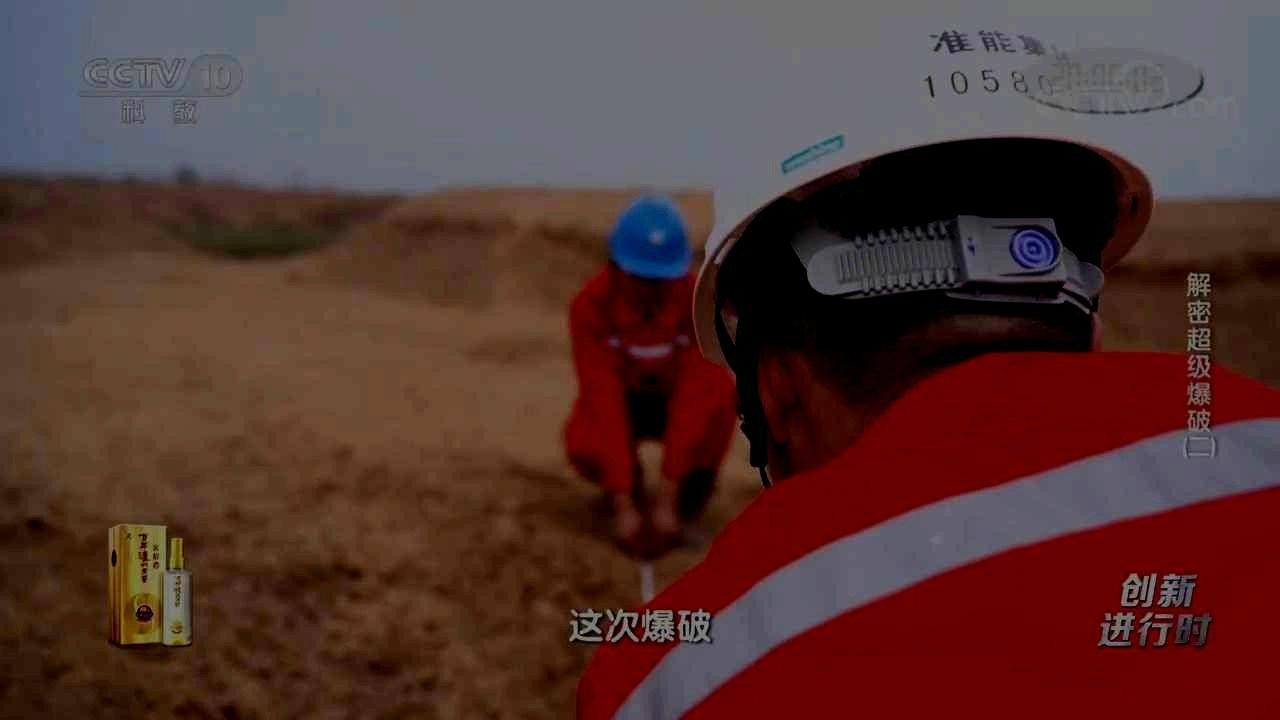helmet: (691, 15, 1155, 486), (607, 190, 694, 310)
